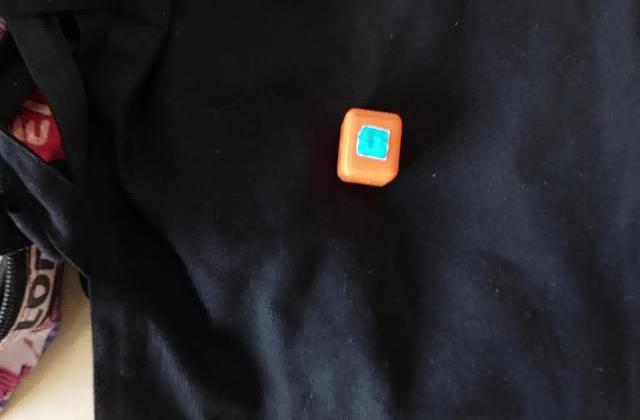blue: (366, 132, 384, 156)
sticker: (334, 107, 406, 190)
